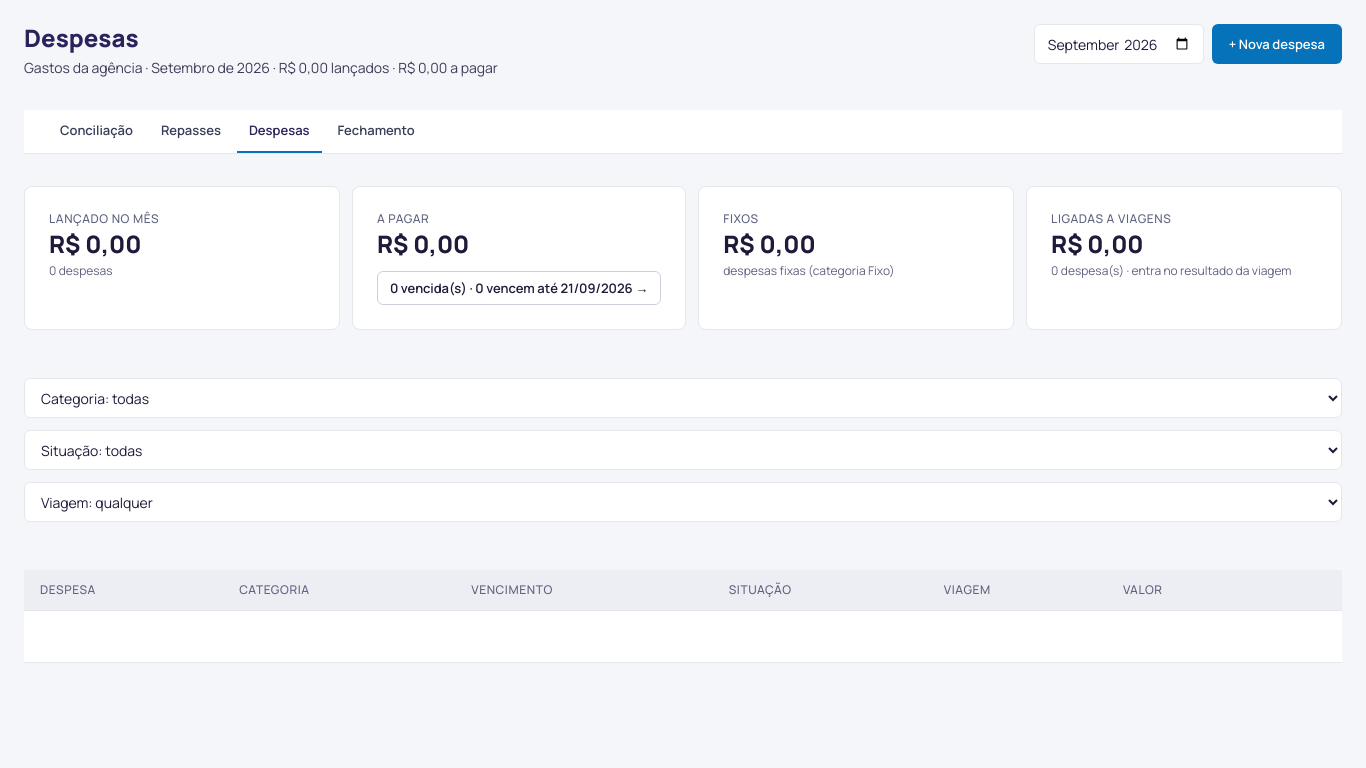
Test: + Nova despesa abre o modal de nova despesa
This screenshot has width=1366, height=768.
Click the button "+ Nova despesa": [1277, 44] box [1212,24,1342,64]
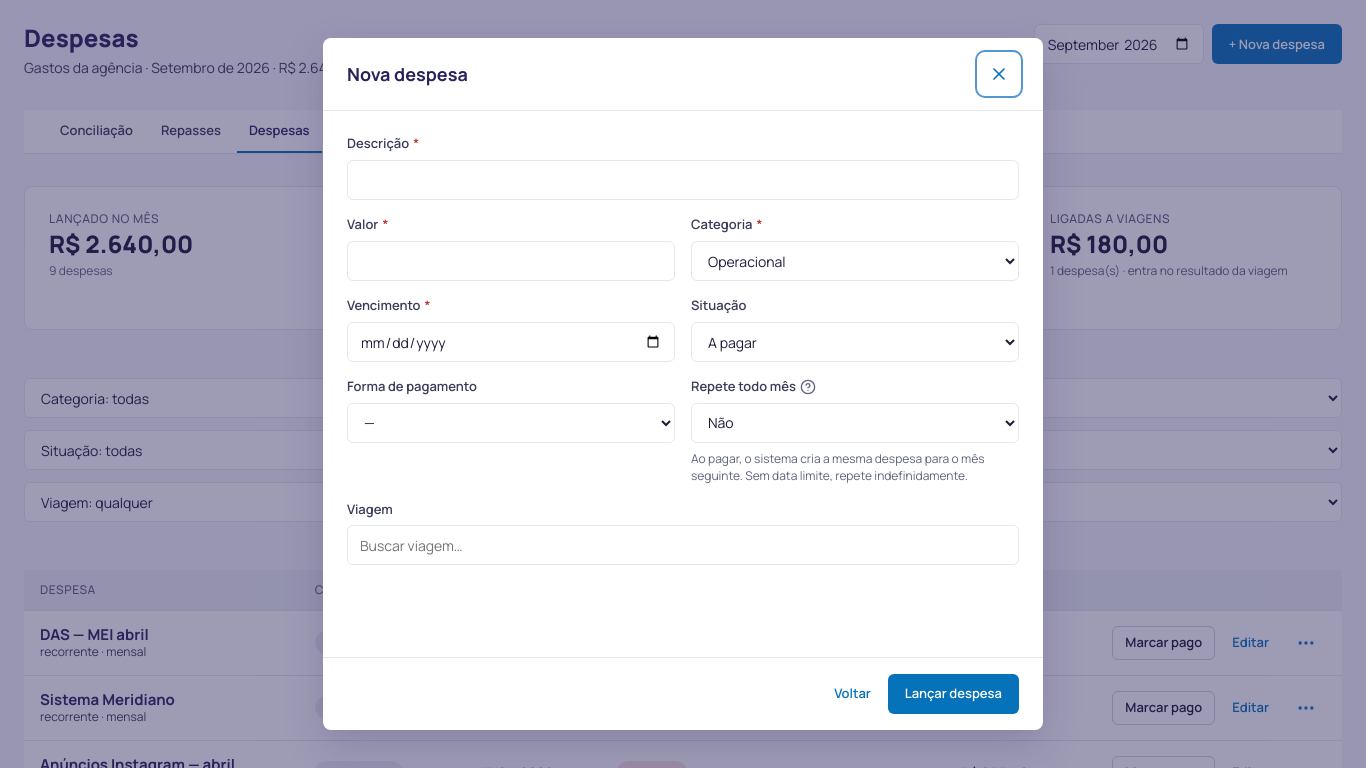
Check: the heading "Nova despesa" is shown, box [347,63,468,86]
